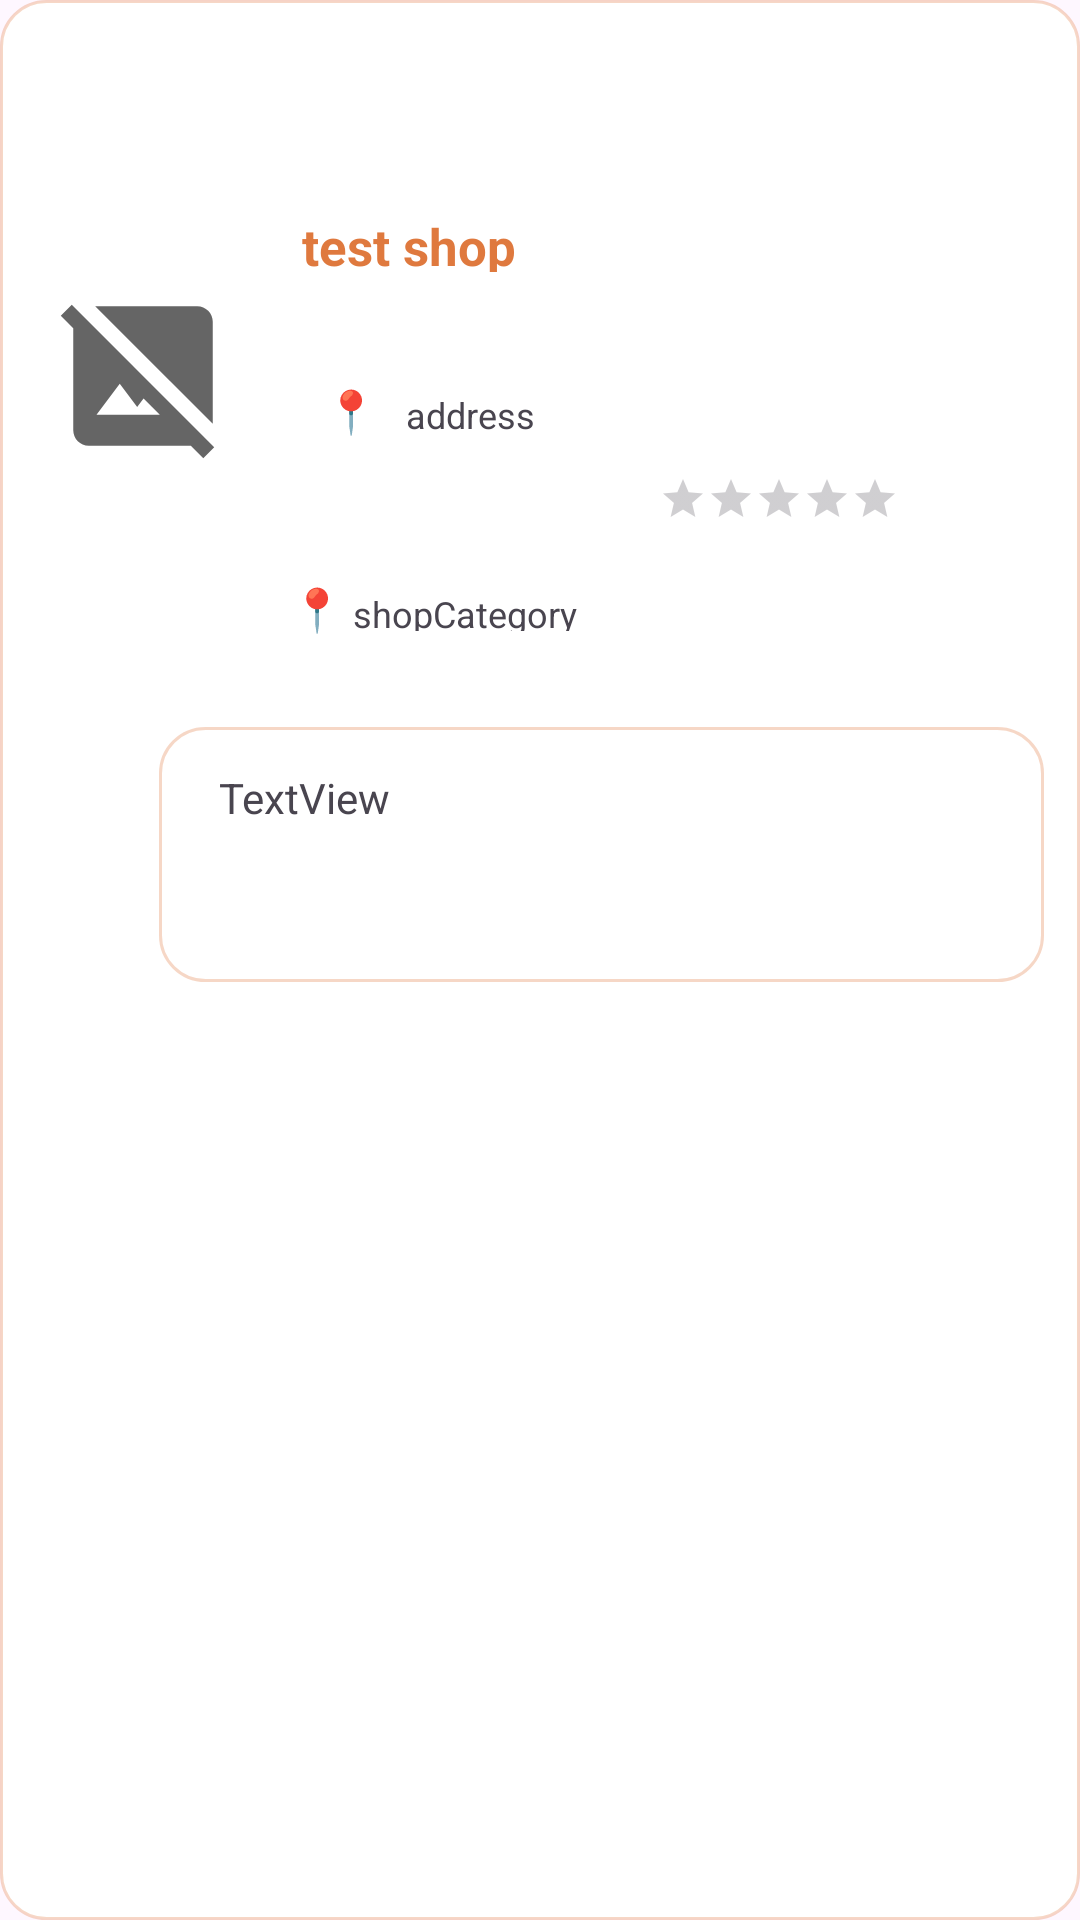

Named icons in this screenshot (1080w x 1920h) and their bounding boxes, (x1, y1, x2, y2):
no pic: (61, 305, 214, 458)
